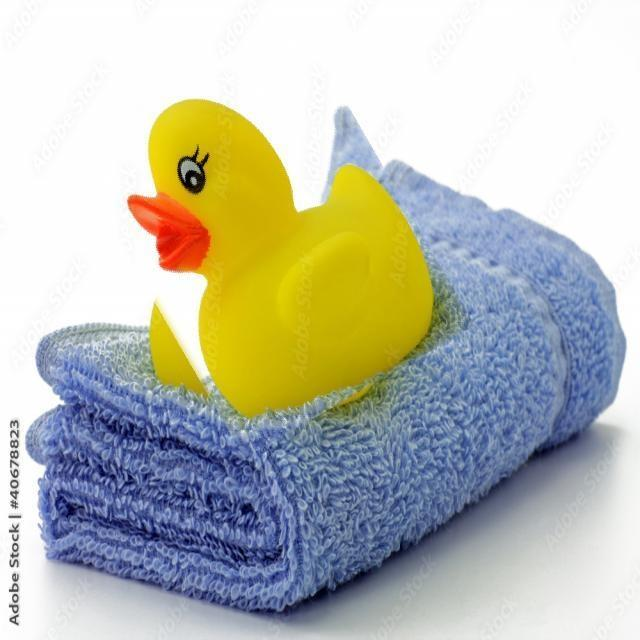rubber-duck: (127, 99, 431, 414), (149, 304, 204, 392)
